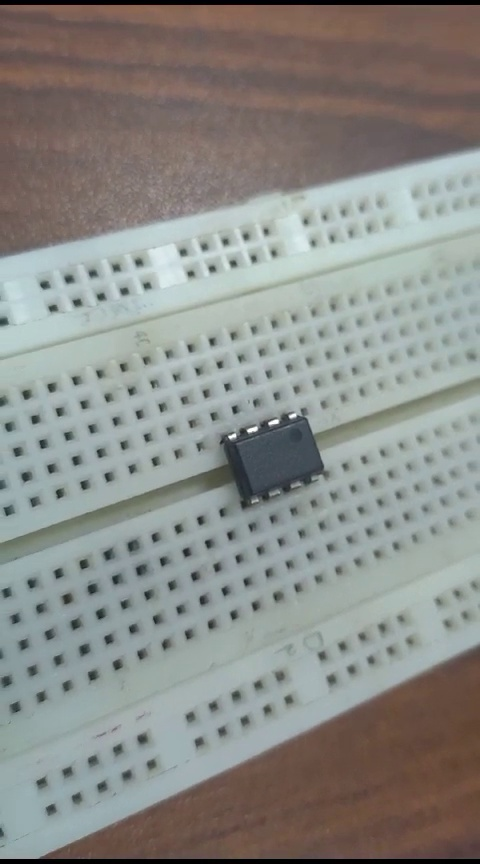IC: (208, 401, 332, 513)
